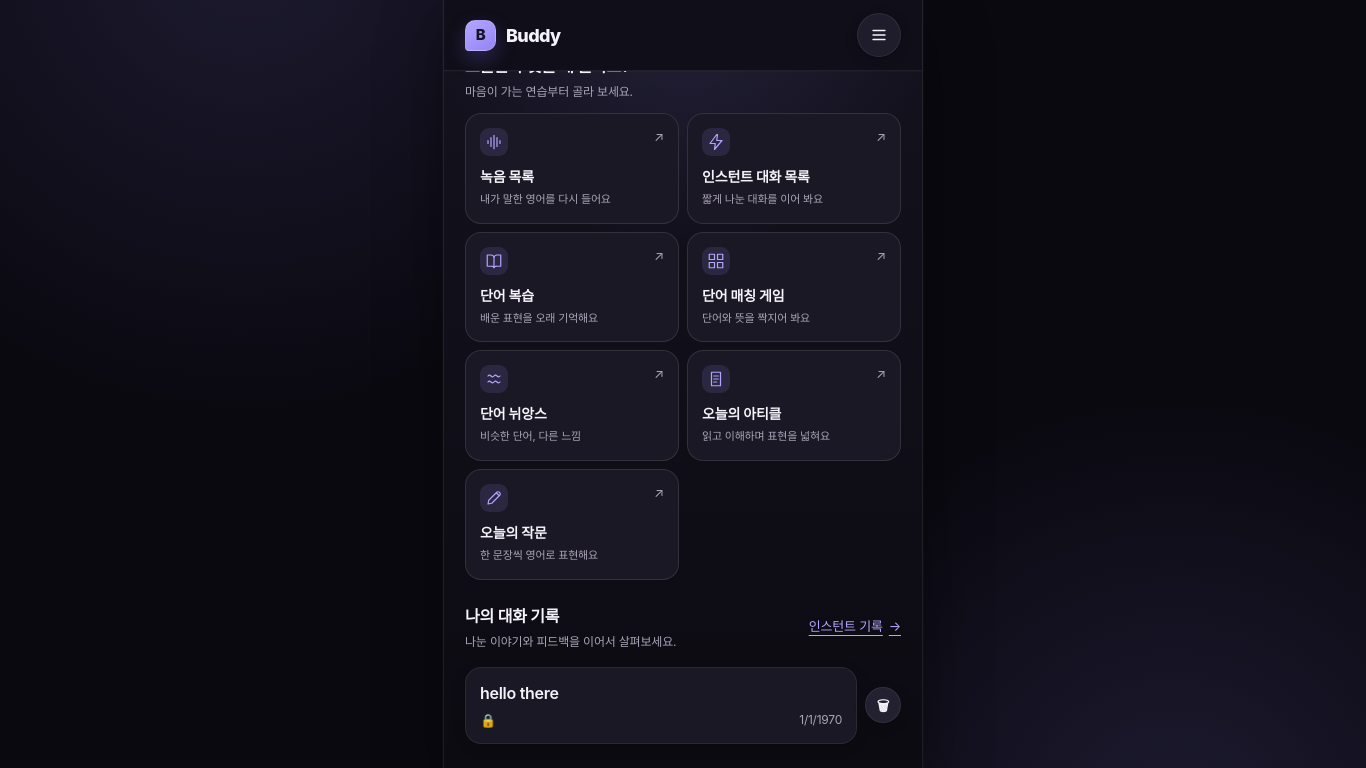
room list › shows an acknowledge button instead of the quiz when there's nothing to ask about
The image size is (1366, 768).
(page scrolled)
What coordinates should you click on to do the following:
click the text "hello there"
I would click on:
 (519, 693)
Its box is [480, 683, 559, 703].
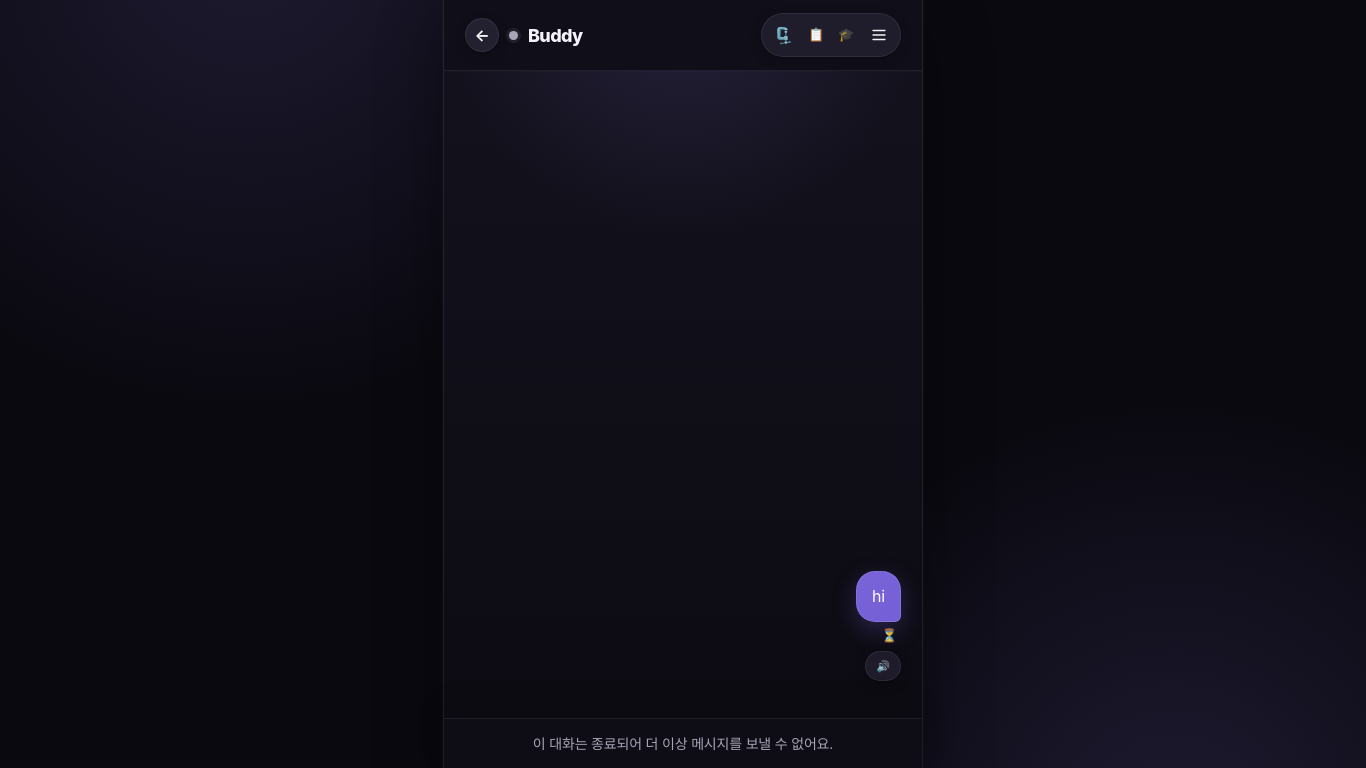
Check: the text "hi" is shown, box [856, 571, 901, 622]
What coordinates should you click on to do the following:
click the button named "대화 종료"
I would click on:
 (846, 35)
Its box is [832, 21, 860, 49].
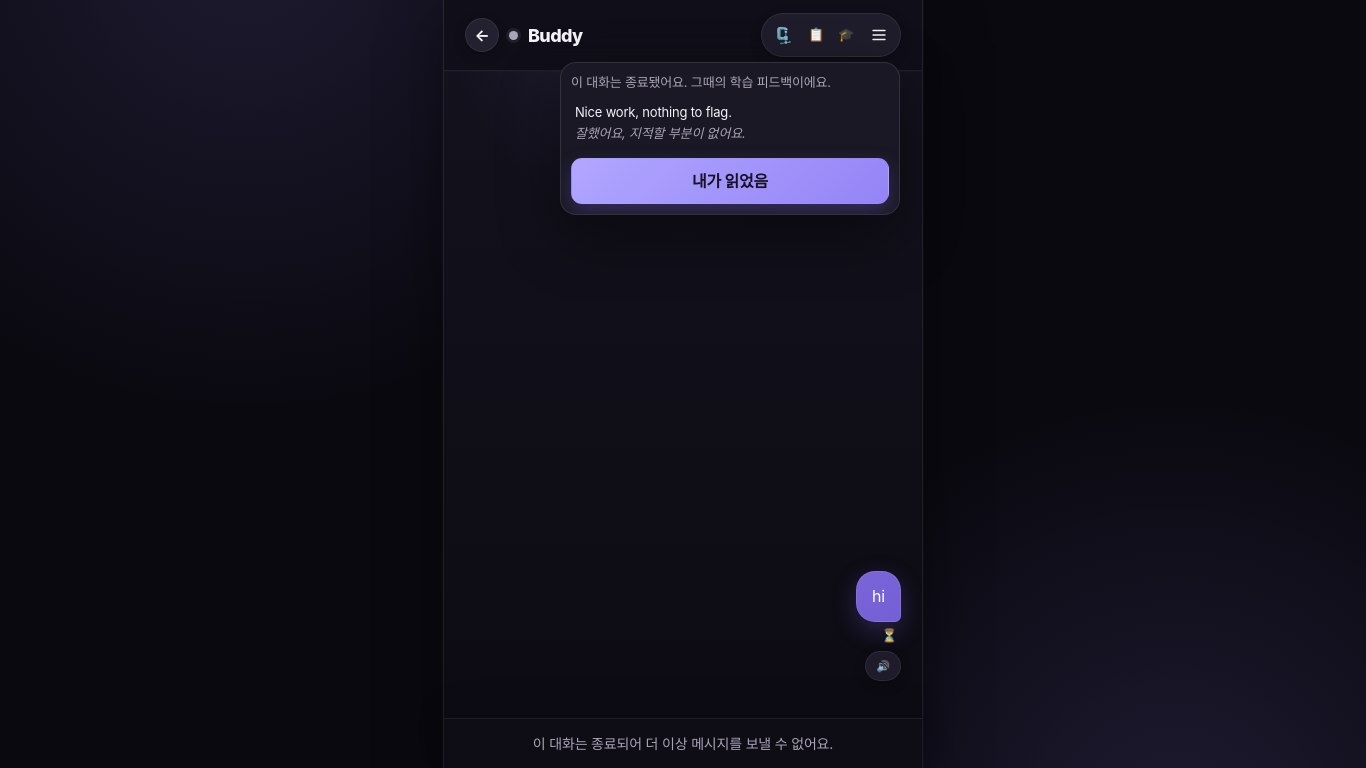
What coordinates should you click on to do the following:
click the button "내가 읽었음"
I would click on:
 (730, 180)
Its box is [571, 158, 889, 204].
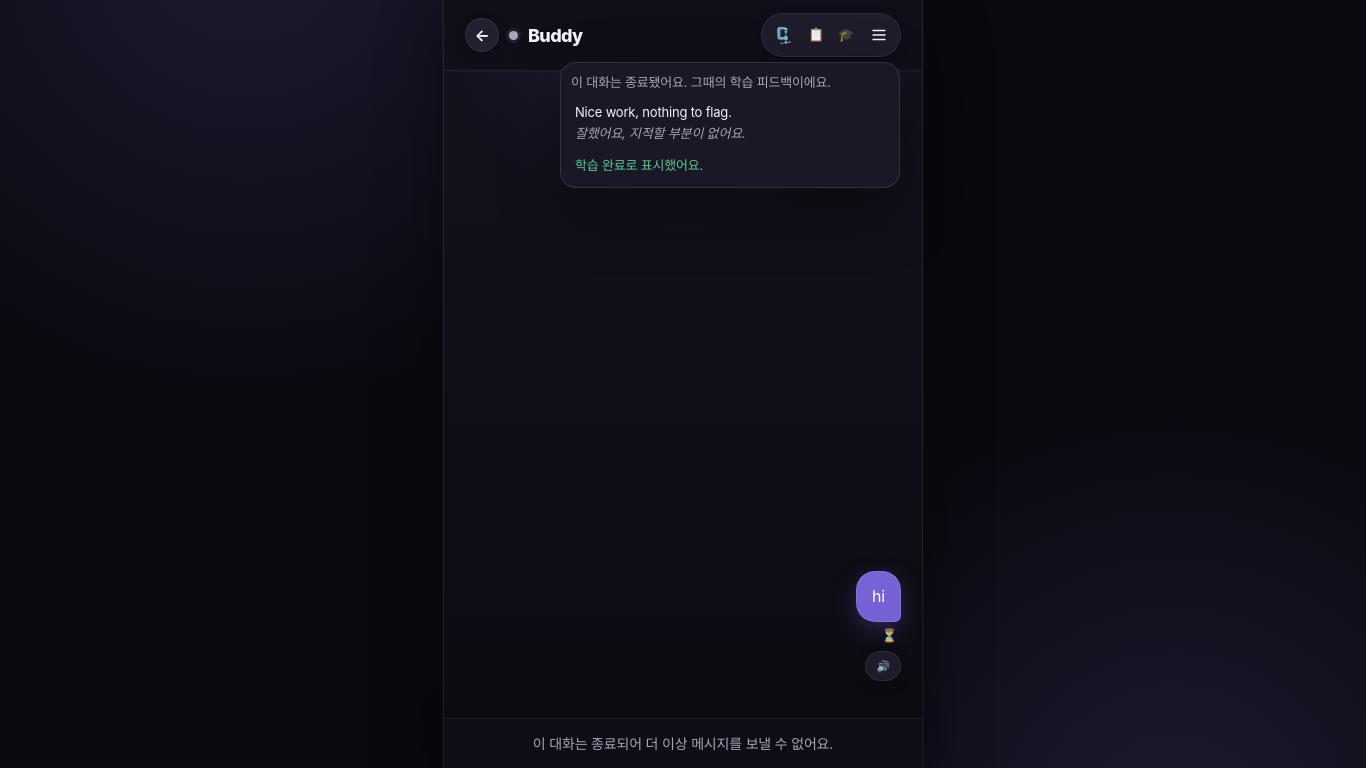
Check: the text "학습 완료로 표시했어요." is shown, box [575, 156, 703, 172]
